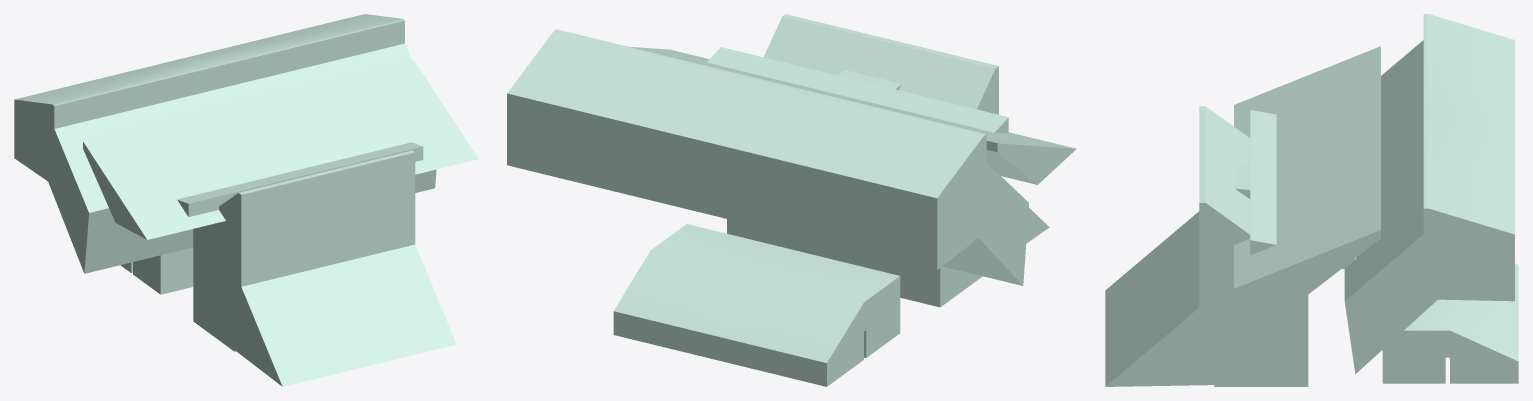
The picture shows the model from 3 angles, left to right: view 1: azimuth 30°, elevation 25°; view 2: azimuth 150°, elevation 25°; view 3: azimuth 270°, elevation 25°; orthographic projection. The views are drawn at different scales.
Parts seen in each view (by area): view 1: Renderer Node; view 2: Renderer Node; view 3: Renderer Node.
Part boxes in pixels (box(x1,y1,x2,y2)): Renderer Node: box(14, 14, 478, 386); Renderer Node: box(507, 14, 1076, 386); Renderer Node: box(1105, 14, 1518, 386).
Size of the model in its own units: 1.98 by 1.08 by 1.78.
